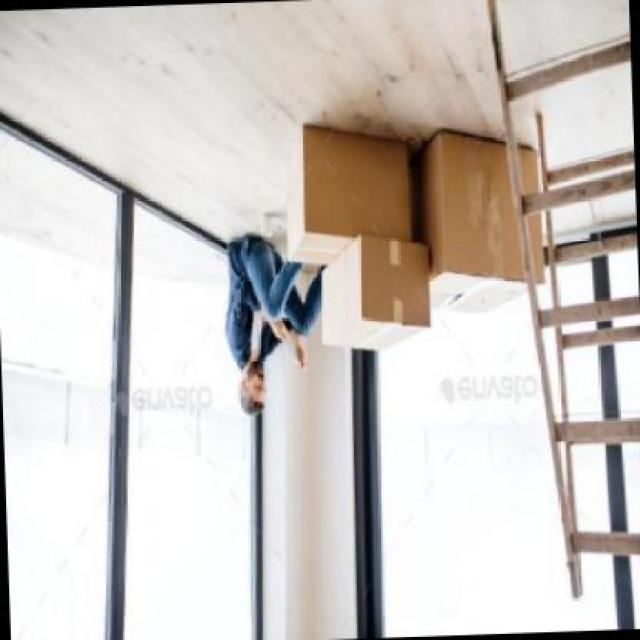box: (425, 116, 558, 316), (283, 106, 419, 260), (315, 231, 436, 355)
